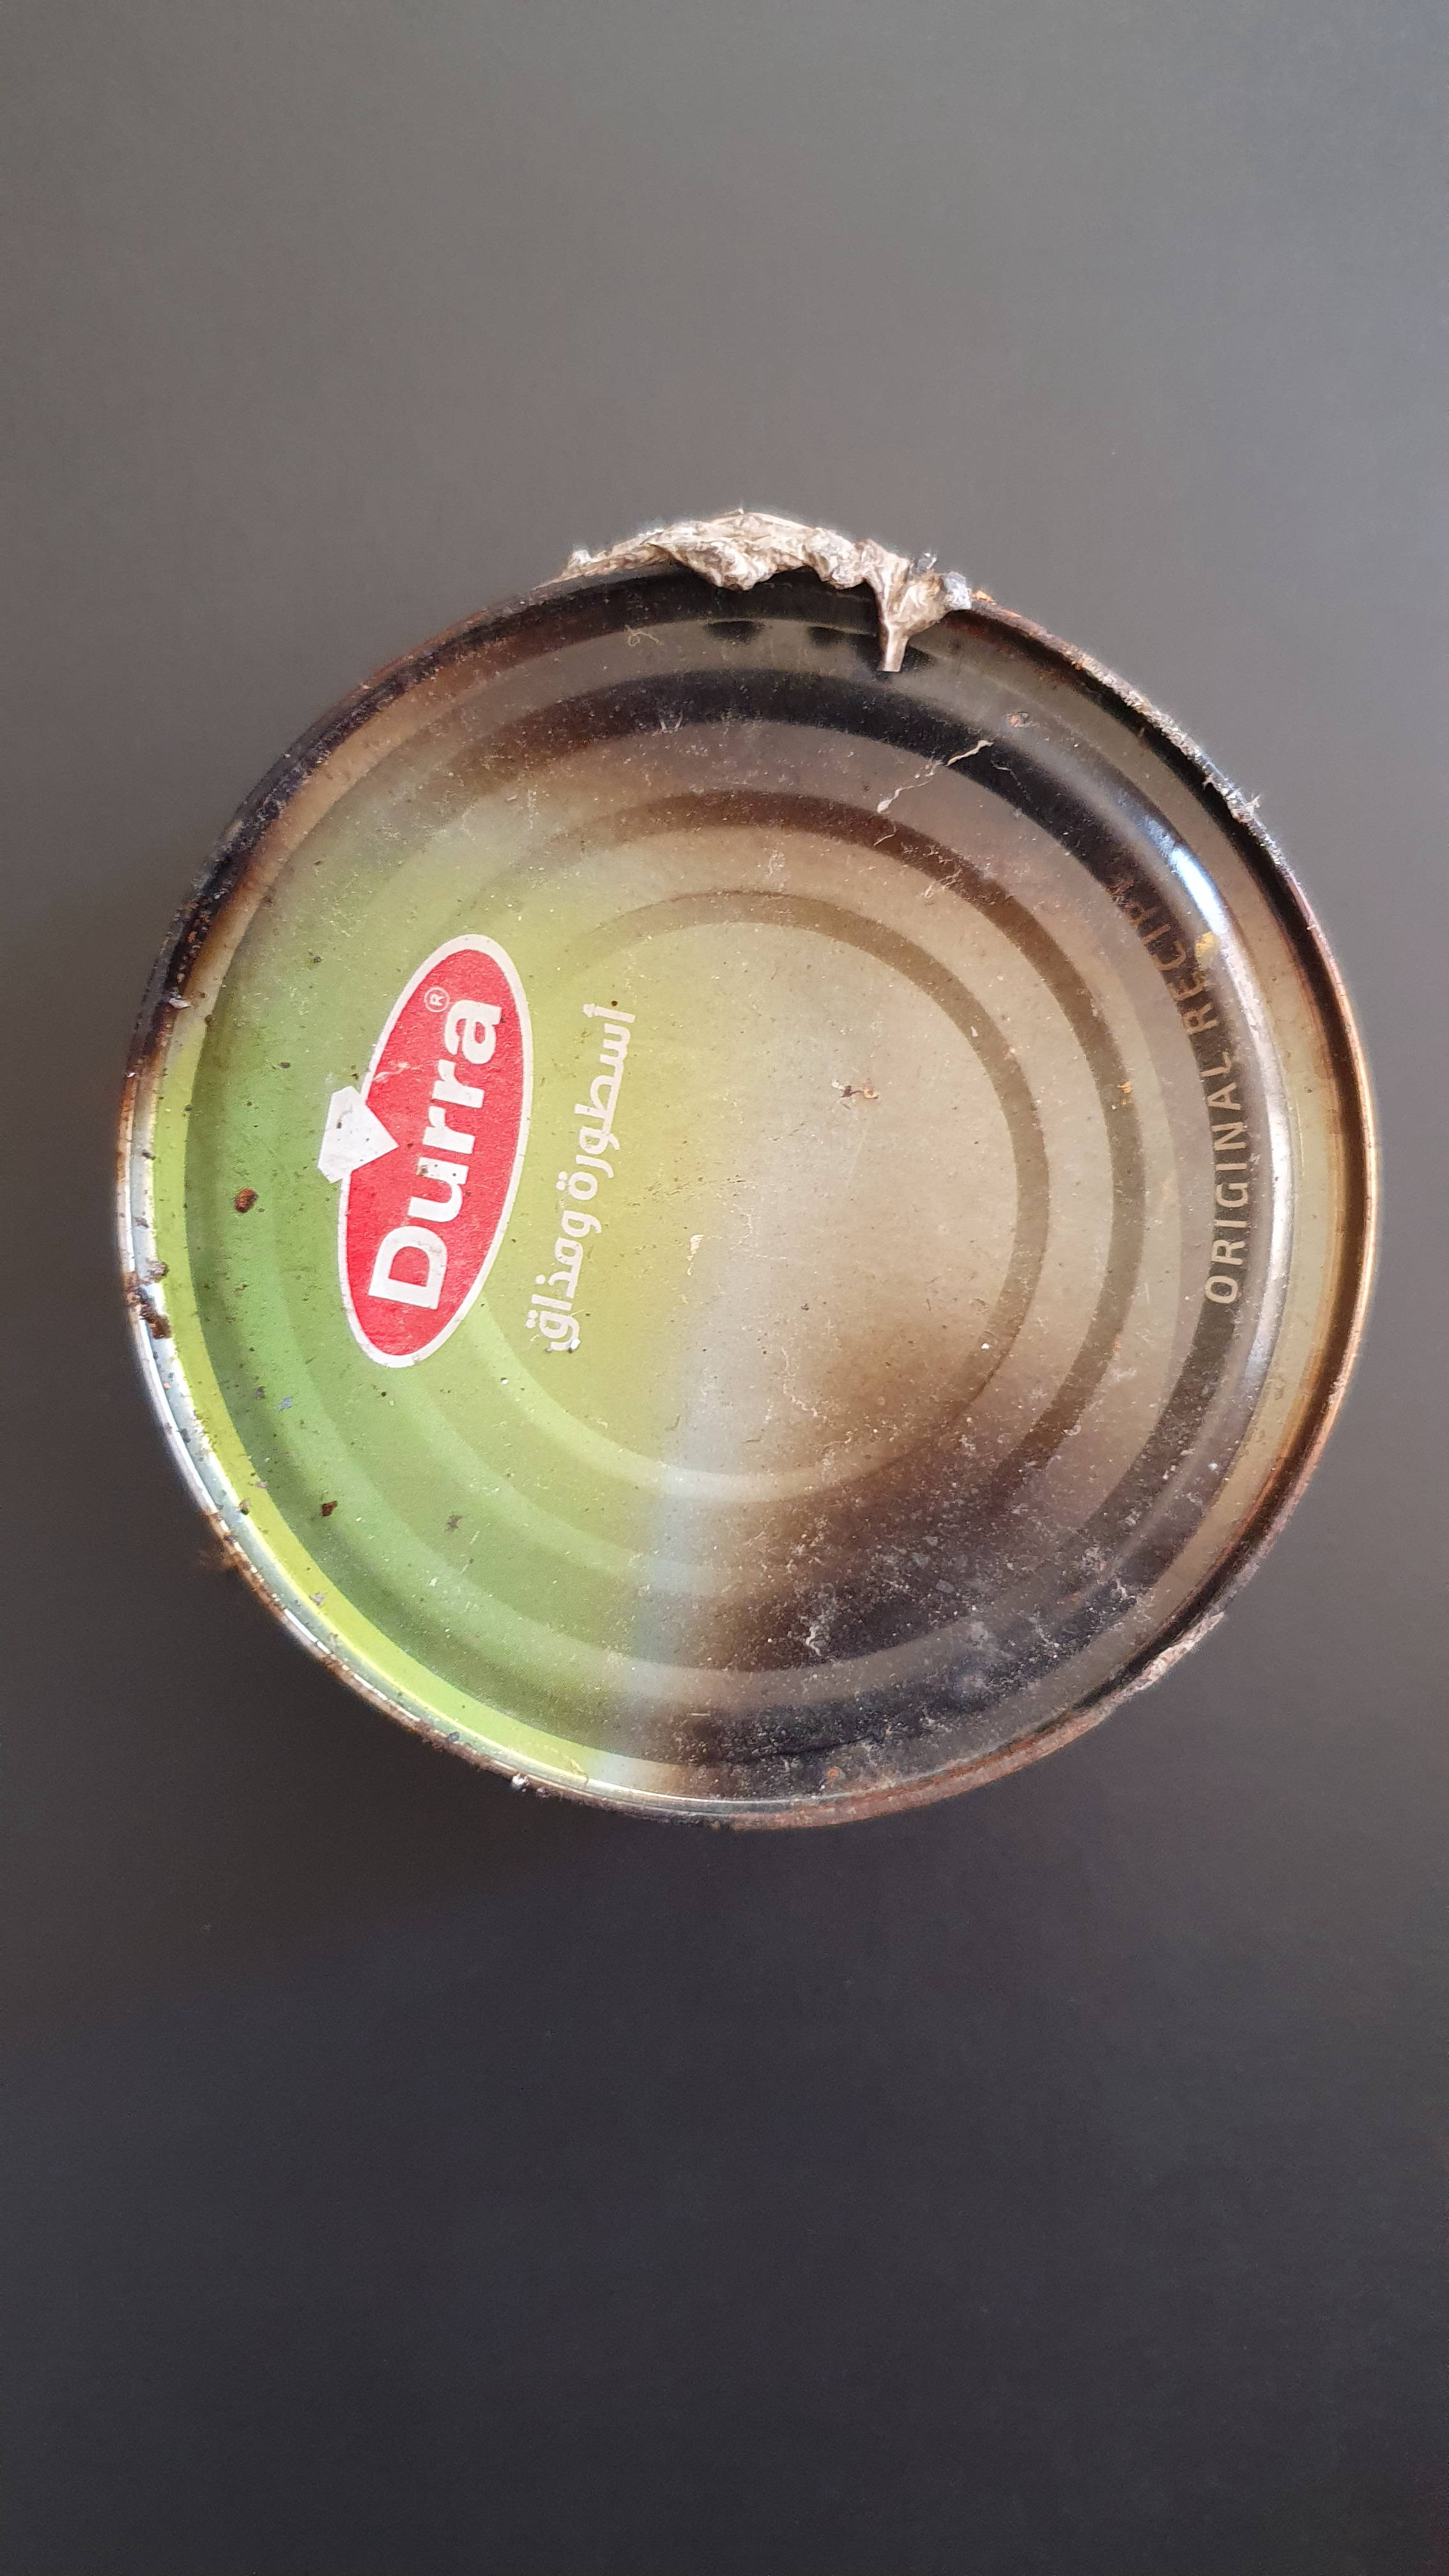metal: (65, 446, 1408, 1916)
